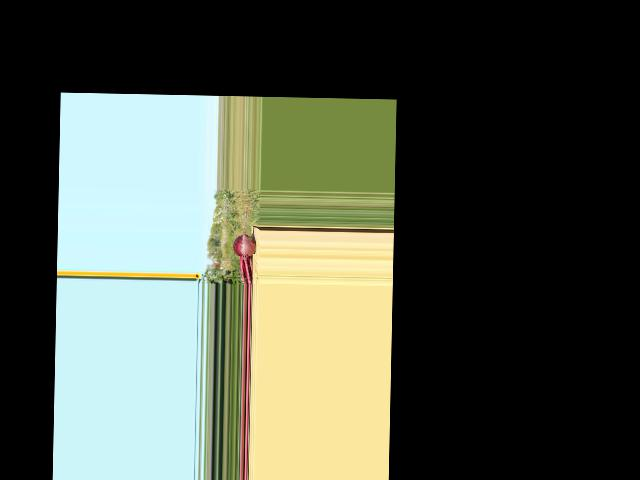beet: (232, 192, 257, 285)
